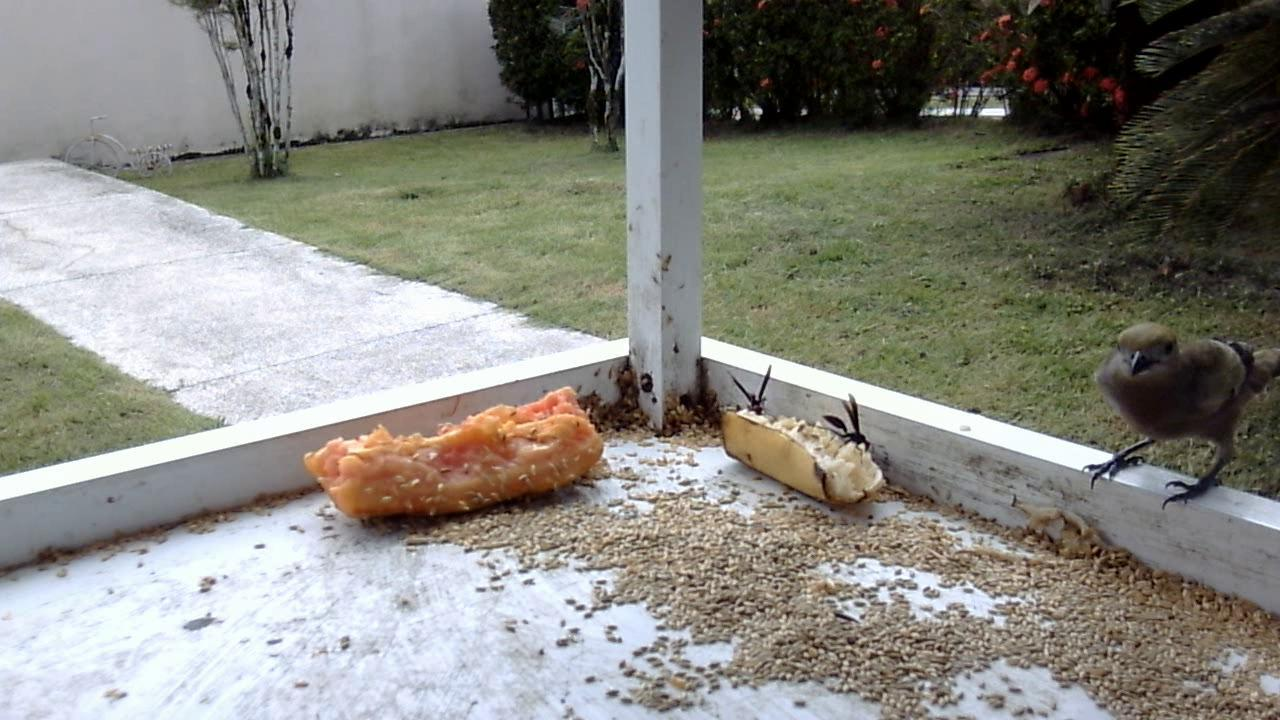sanhaco_do_coqueiro: (1079, 313, 1272, 519)
